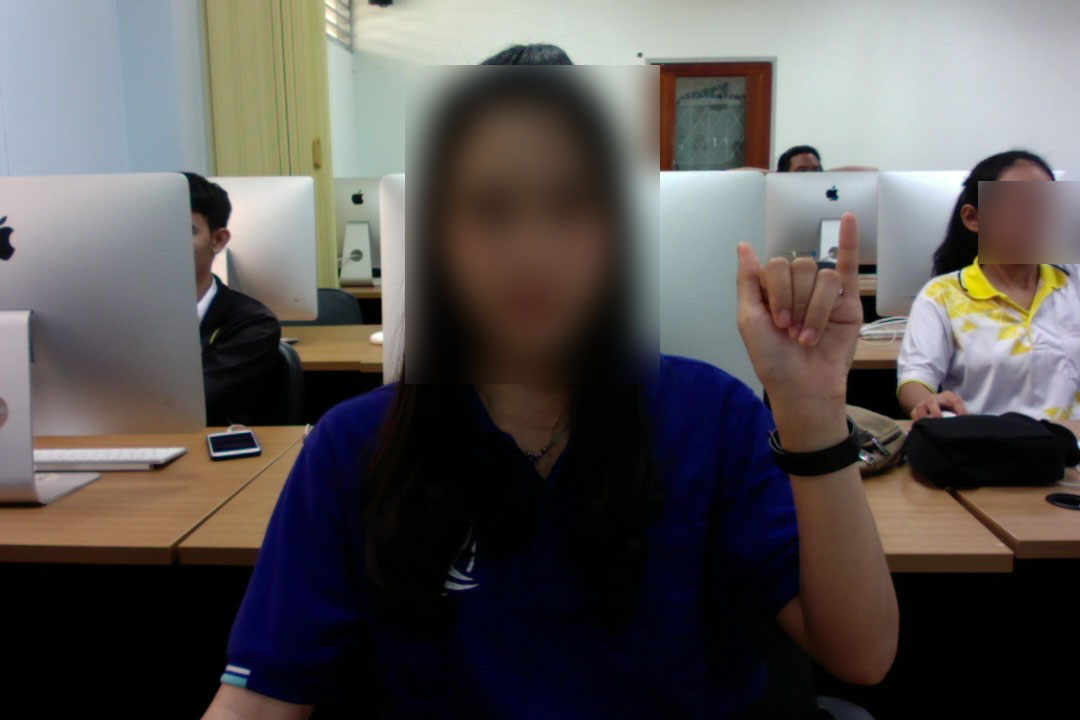yor: (726, 205, 868, 426)
